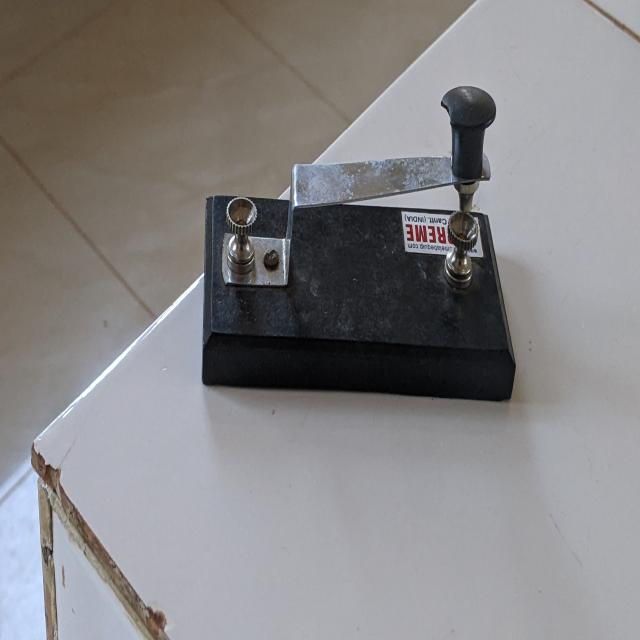Press Key: (198, 84, 536, 424)
